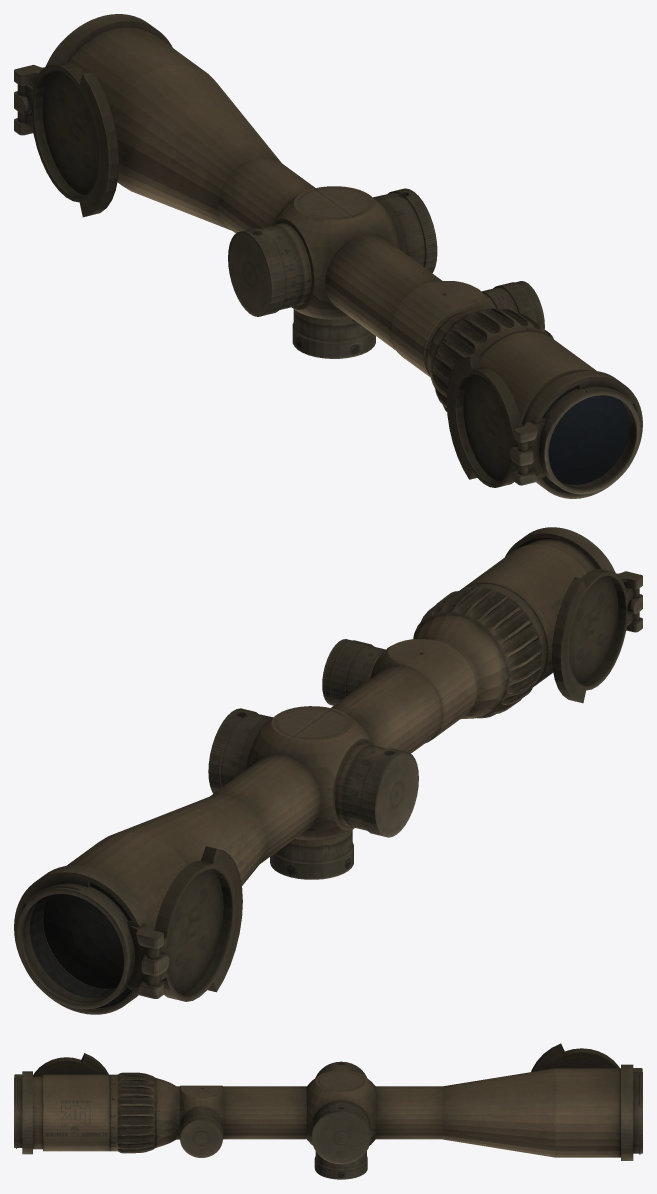
3 renders of one model, top to bottom at view 1: azimuth 30°, elevation 25°; view 2: azimuth 150°, elevation 25°; view 3: azimuth 270°, elevation 25°, orthographic. The views are drawn at different scales.
Parts seen in each view (by area): view 1: TW_61714eec290d254f5e6b2ffc_PZ_Import; view 2: TW_61714eec290d254f5e6b2ffc_PZ_Import; view 3: TW_61714eec290d254f5e6b2ffc_PZ_Import.
Boxes of the visible parts, x1,y1,x2,y2 form: TW_61714eec290d254f5e6b2ffc_PZ_Import: (14, 14, 642, 498); TW_61714eec290d254f5e6b2ffc_PZ_Import: (14, 527, 642, 1014); TW_61714eec290d254f5e6b2ffc_PZ_Import: (14, 1043, 642, 1179).
Size of the model in its own units: 0.0453 by 0.2325 by 0.0412.
1 material, 1 textured.
